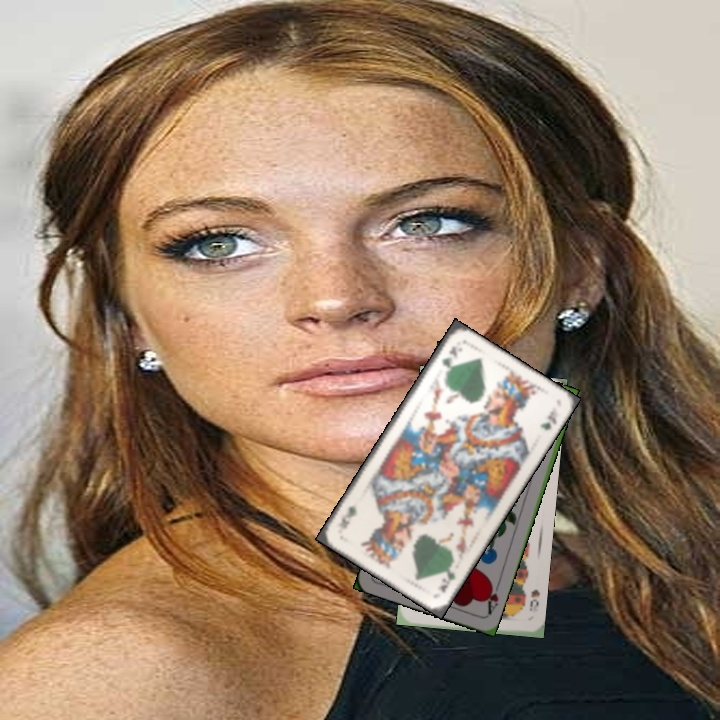GK: (436, 559, 458, 595), (438, 342, 460, 371)
HA: (480, 578, 503, 617)
S8: (526, 585, 542, 614)
